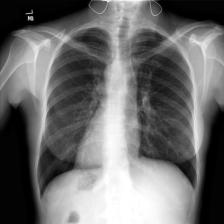normal: (34, 18, 201, 202)
